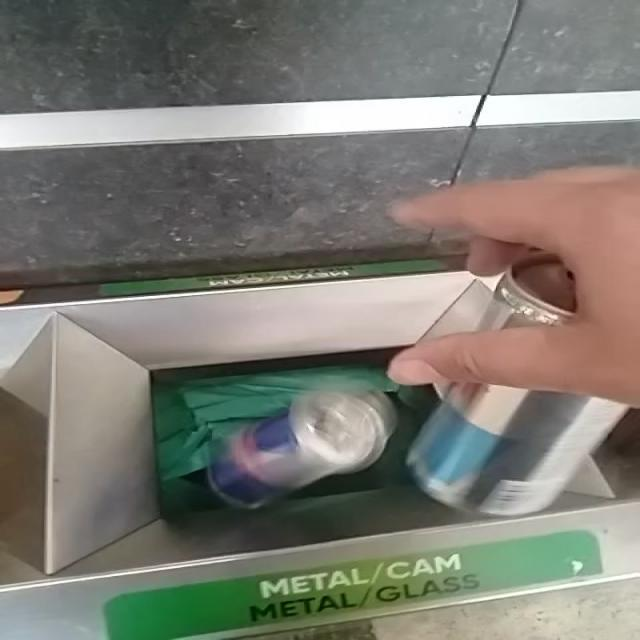Bin: (1, 272, 639, 640)
Metal: (207, 393, 397, 509)
